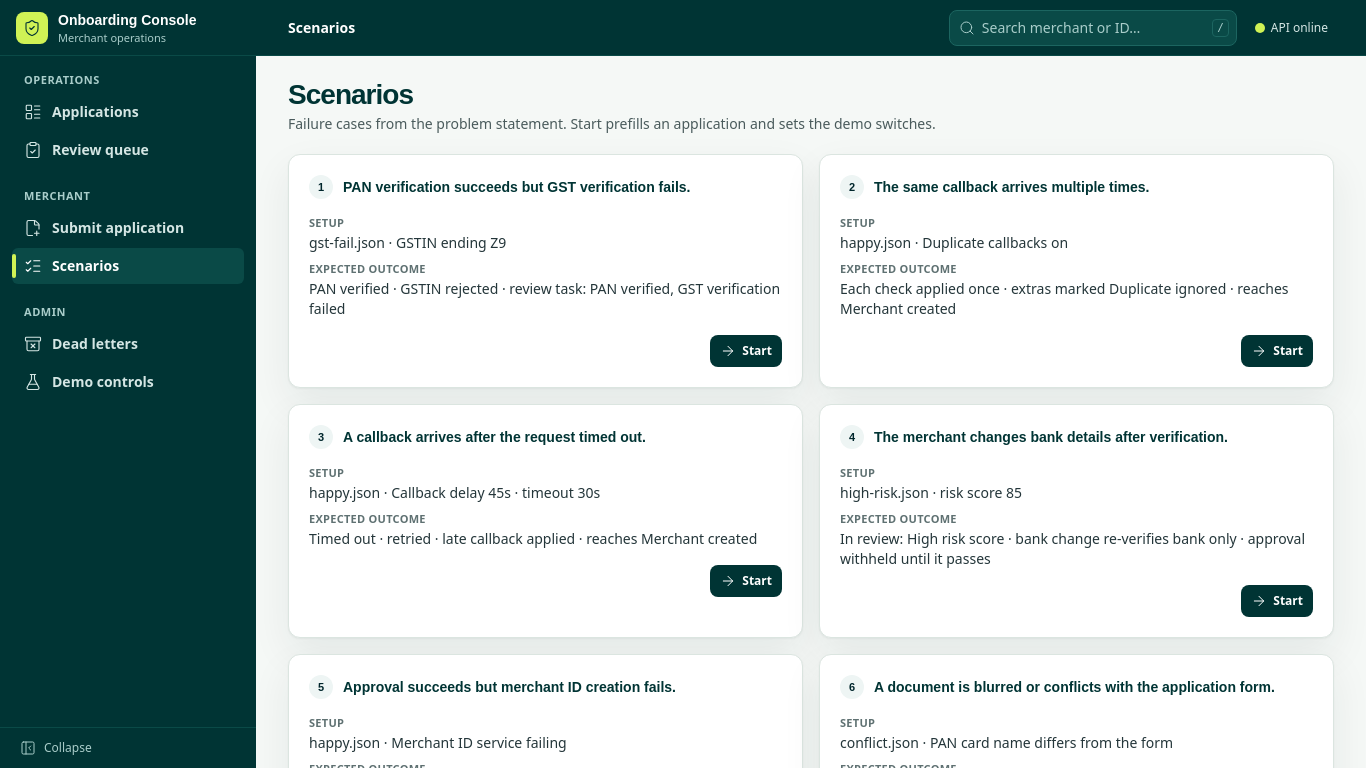
Test: submitting an application › shows "Submitted for verification" with the reference, and does not open the application
This screenshot has width=1366, height=768.
Click the button "Start" below "happy.json · Duplicate callbacks on".
click(1277, 351)  # box [1241, 335, 1313, 367]
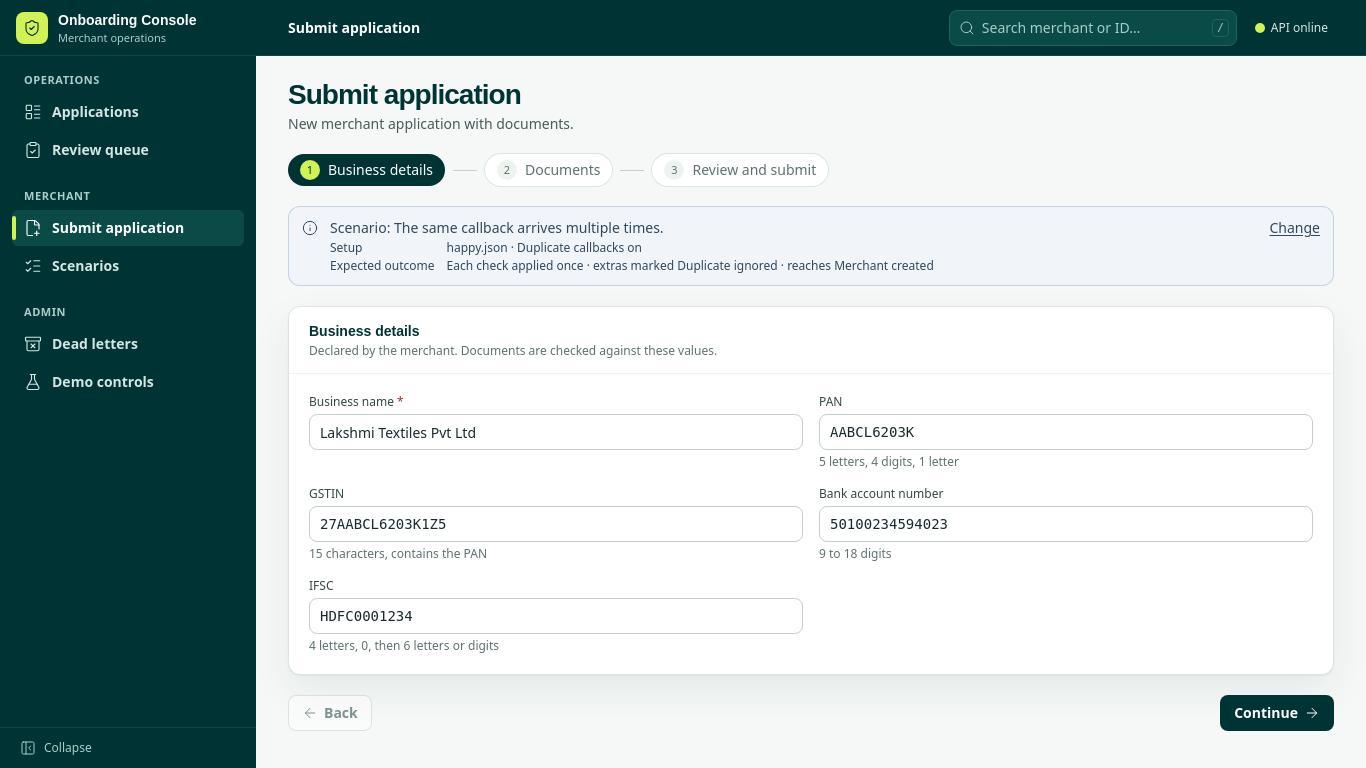
Click the button "Continue".
click(1277, 713)  # box [1220, 695, 1334, 731]
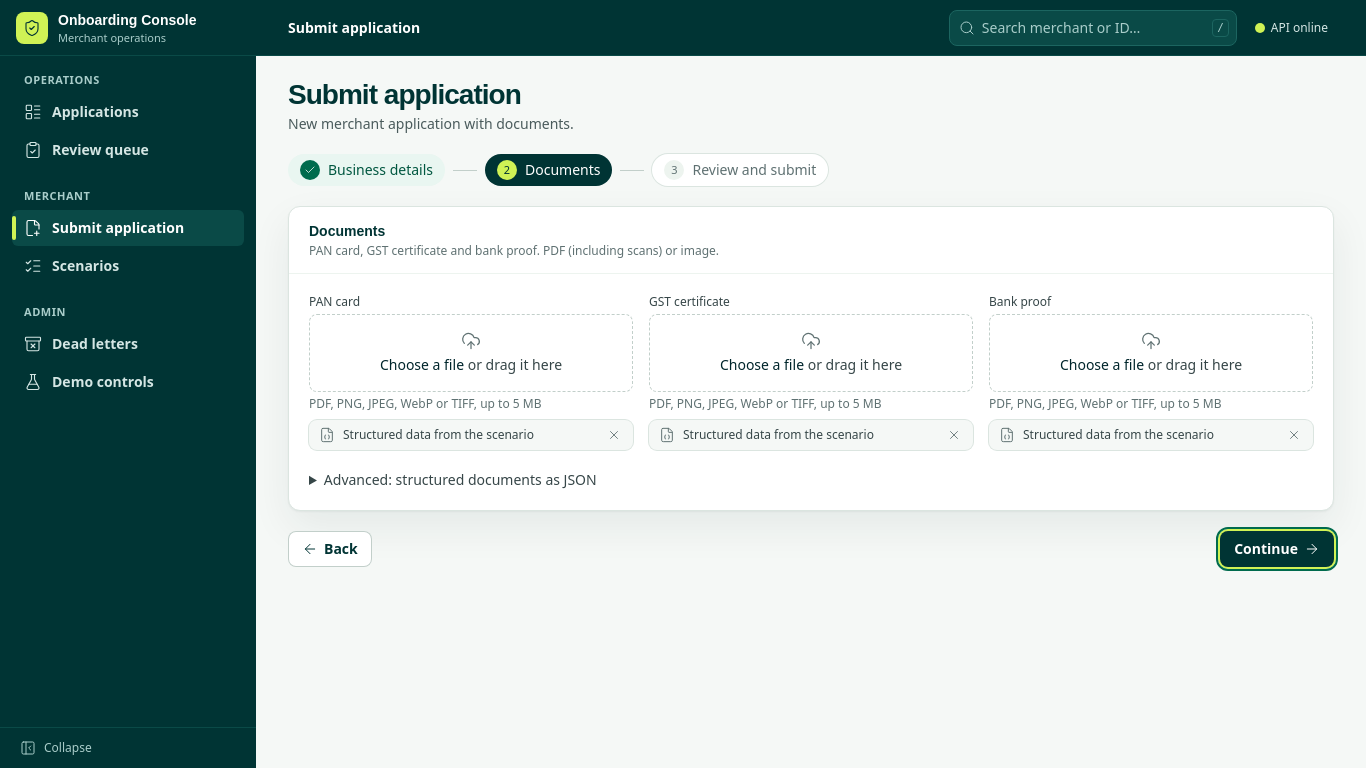
Click the button "Continue".
click(1277, 549)  # box [1220, 531, 1334, 567]
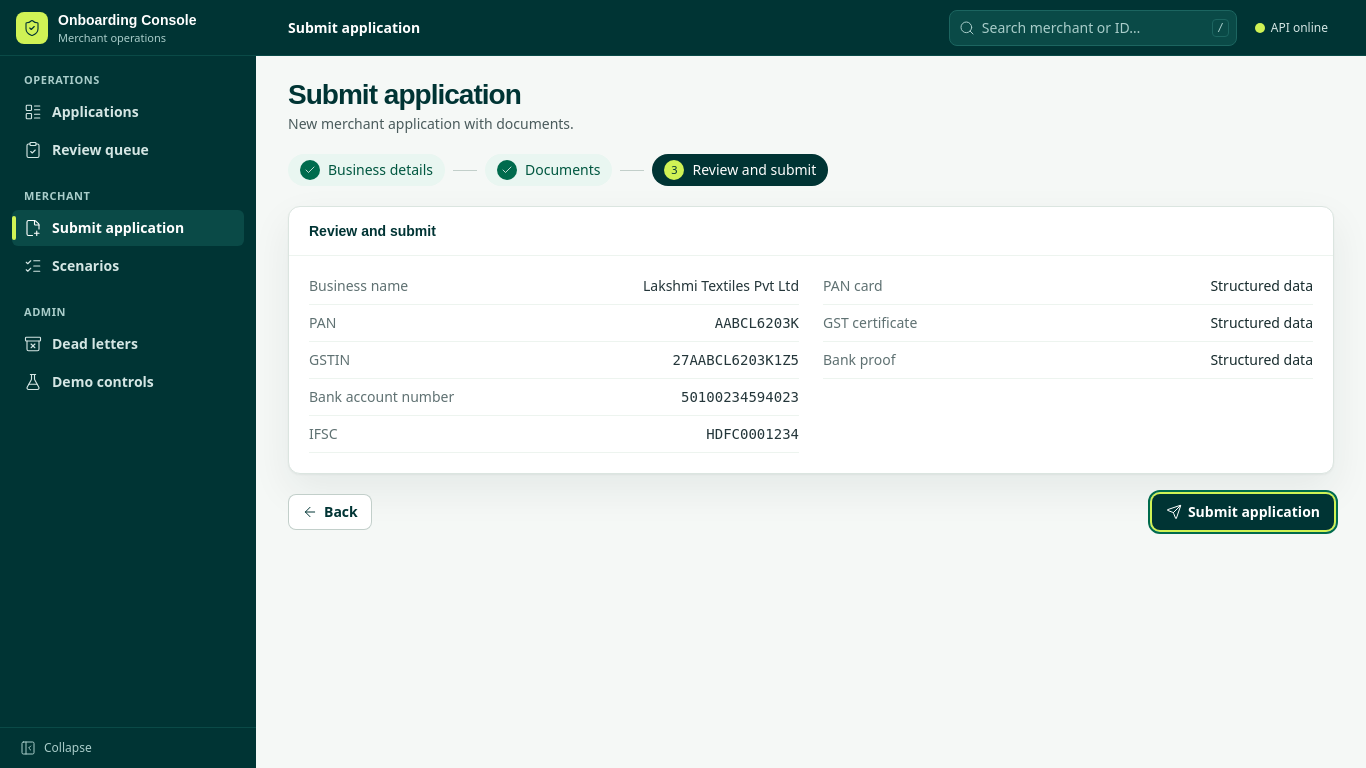
Click the button "Submit application".
click(1243, 512)  # box [1152, 494, 1334, 530]
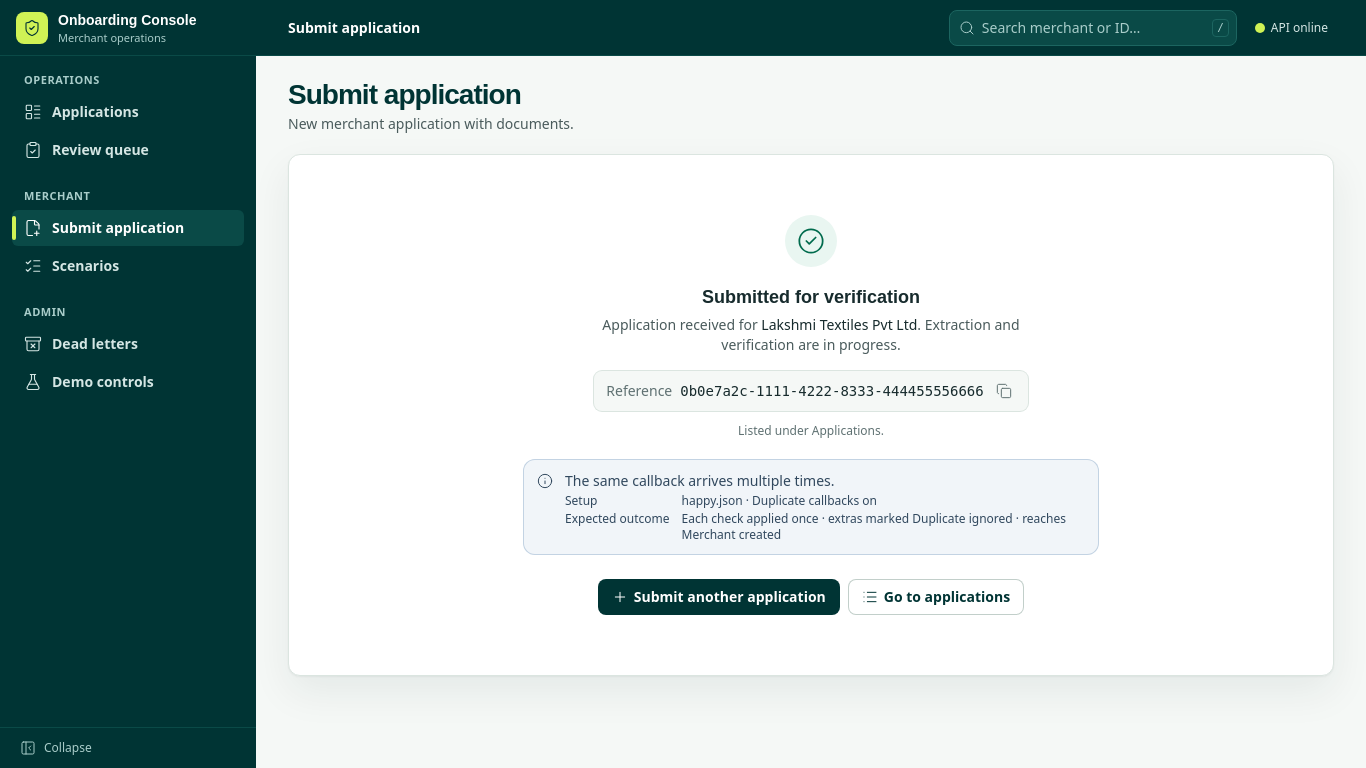
Result: the heading "Submitted for verification" is shown at [702, 283, 920, 311]
Result: the text "0b0e7a2c-1111-4222-8333-444455556666" is shown at [680, 381, 984, 401]
Result: the text "The same callback arrives multiple times." is shown at [565, 471, 834, 490]
Click the button "Submit another application".
click(719, 597)  # box [598, 579, 840, 615]
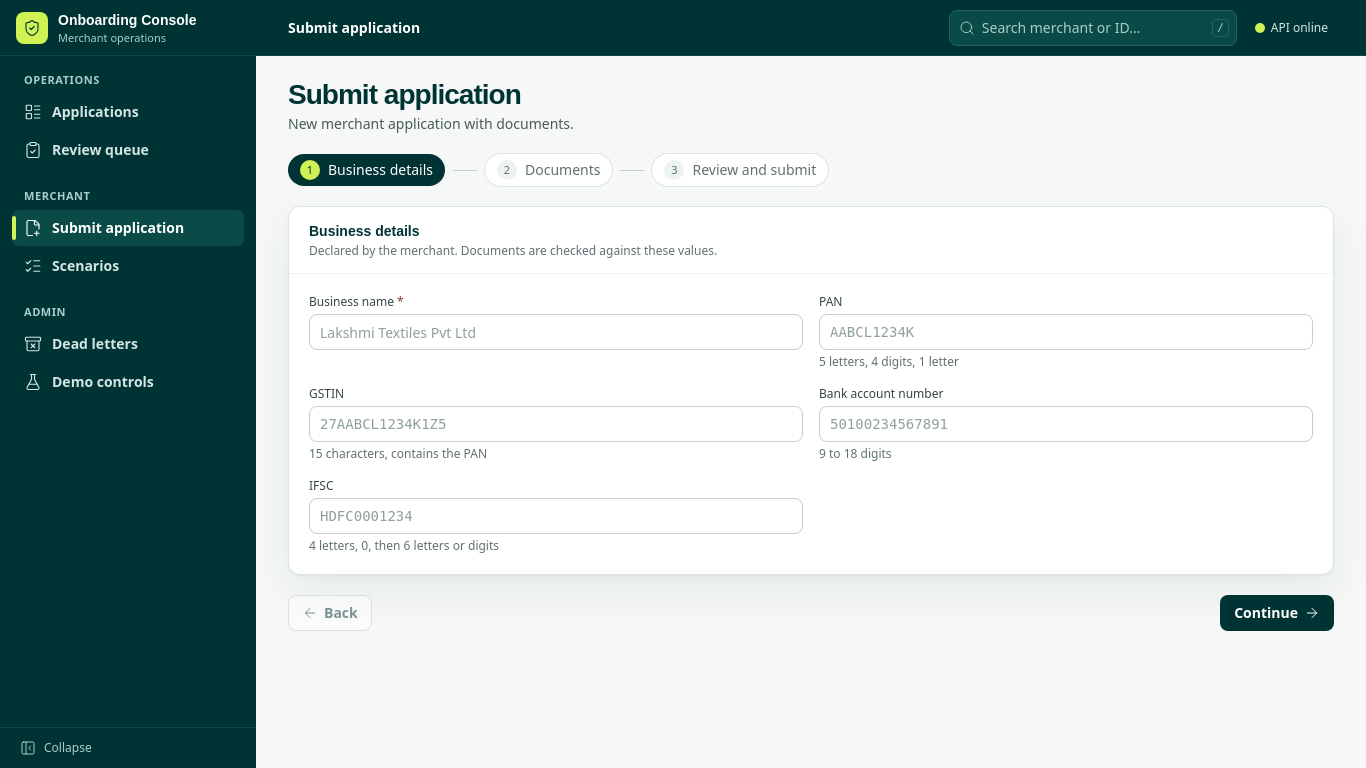
Result: the field labelled "Business name *" is empty at [309, 314, 803, 350]
